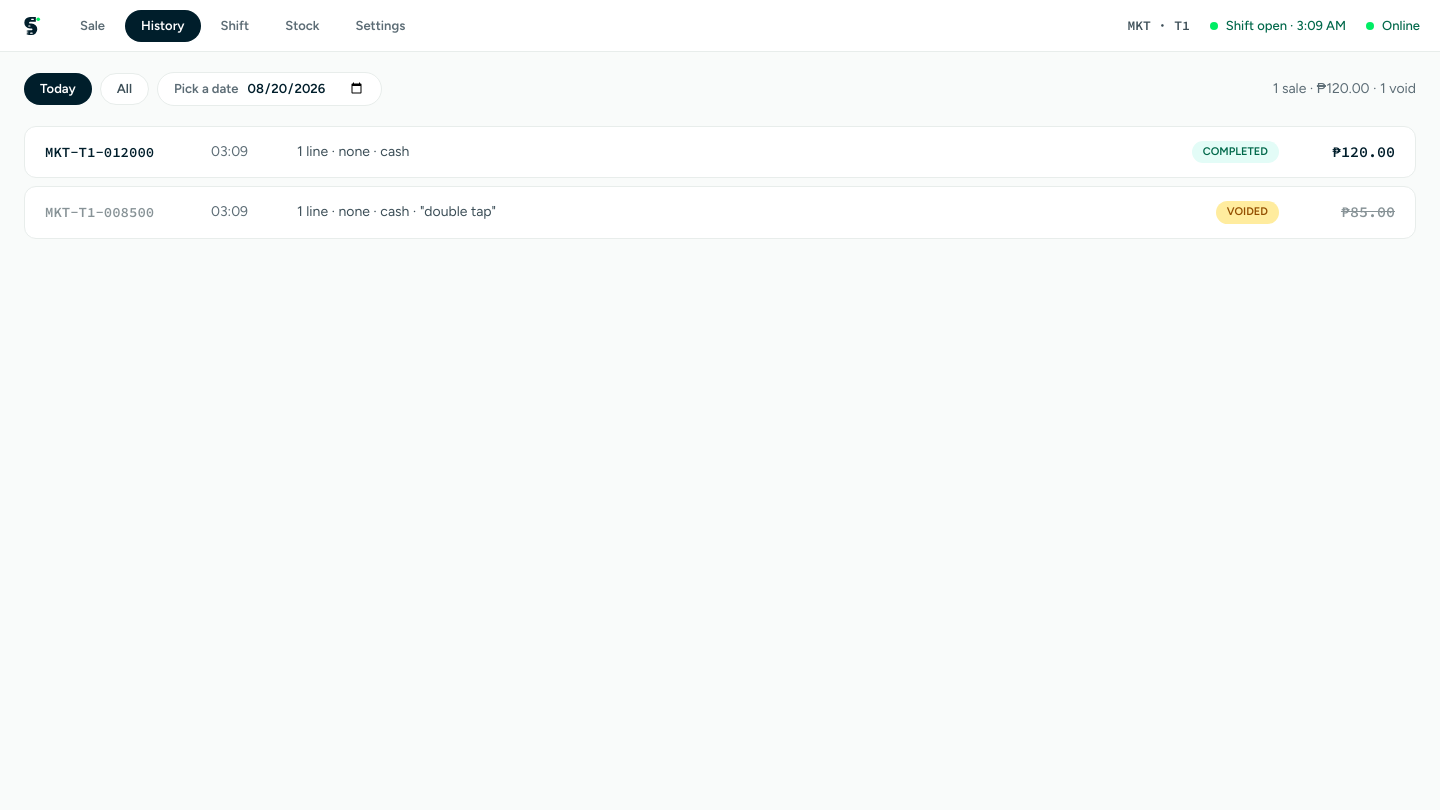
tapping a row opens the detail with a reprint control
Click the button "MKT-T1-012000 03:09 1 line · none · cash COMPLETED ₱120.00".
click(100, 152)  # box [24,126,1416,178]
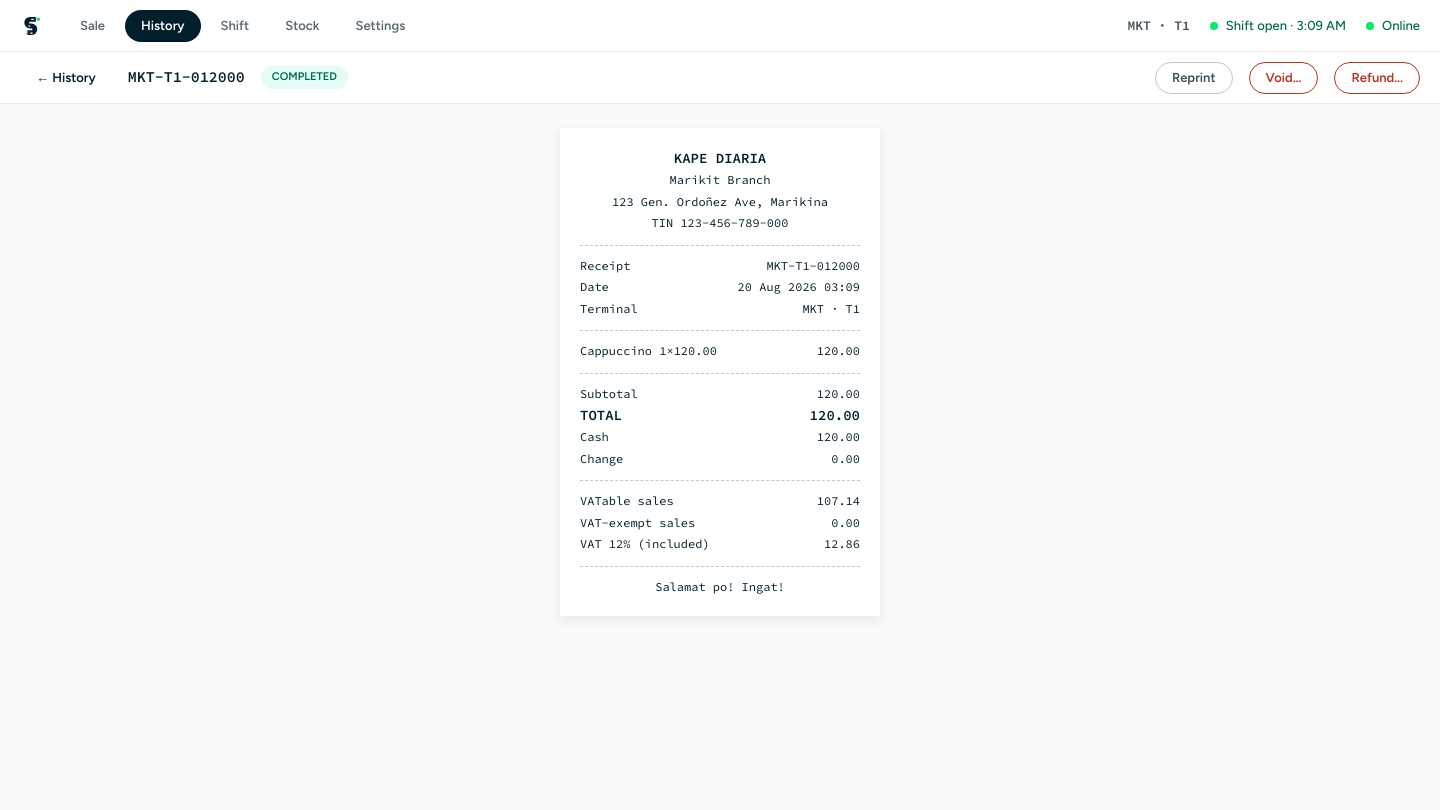
Check: the button "Reprint" is shown, box [1155,62,1232,94]
Check: the button "← History" is shown, box [20,62,112,94]
Check: the text "KAPE DIARIA" is shown, box [674,149,766,167]
